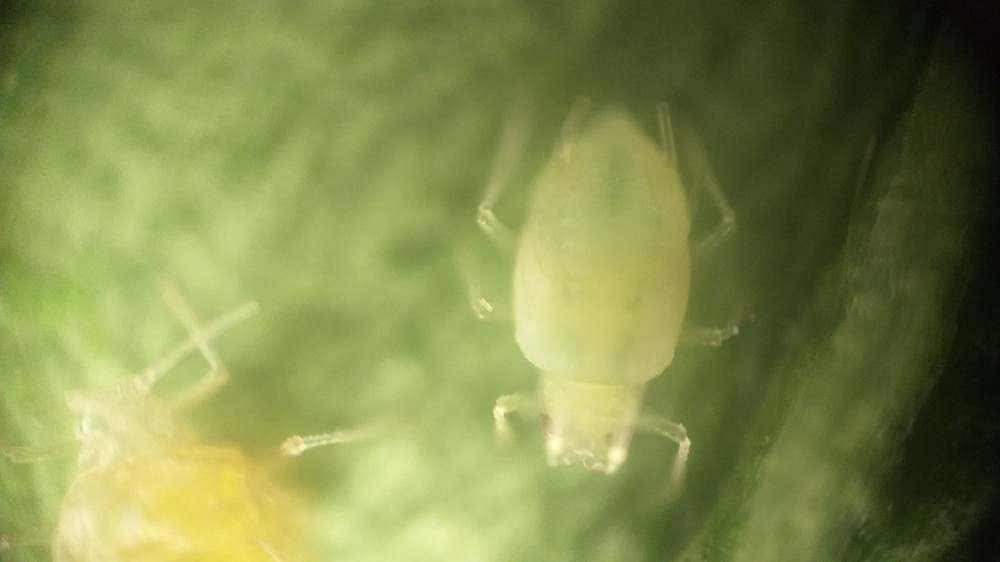Pulgon: (442, 70, 782, 509), (8, 298, 353, 562)
